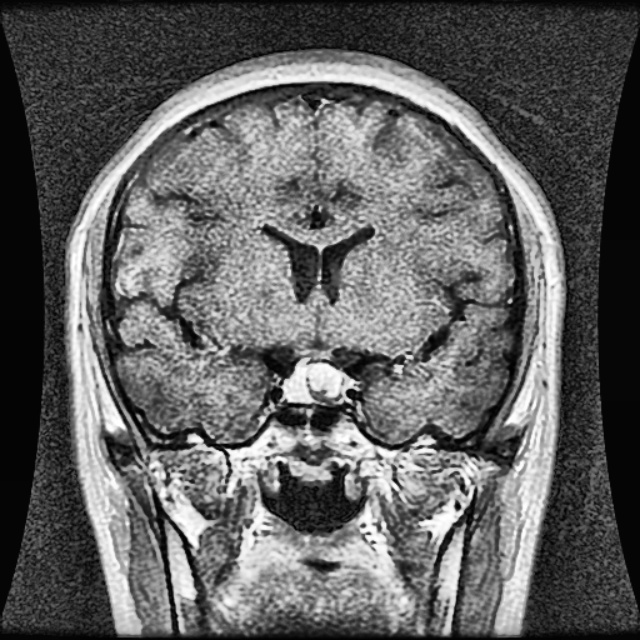Pituitary: (284, 363, 349, 404)
